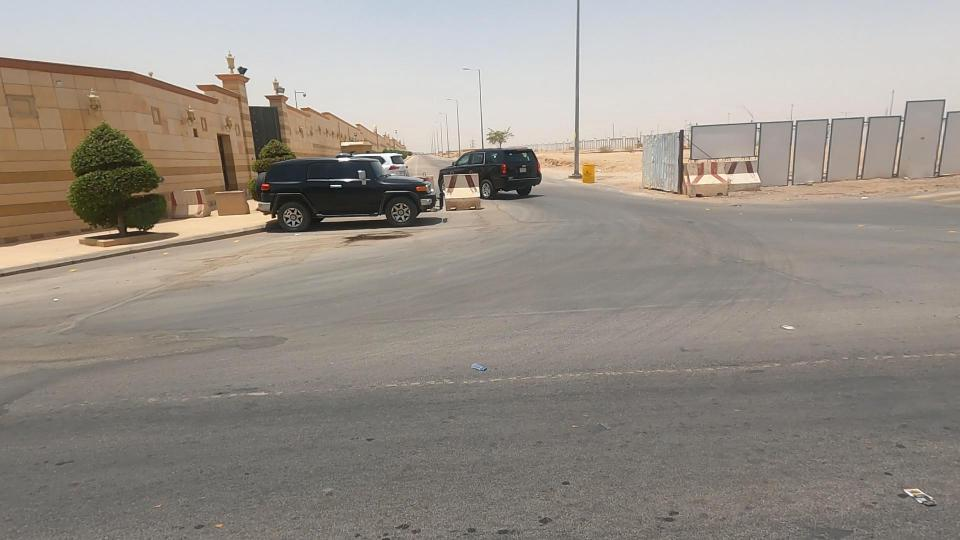GARBAGE: (435, 343, 527, 390)
